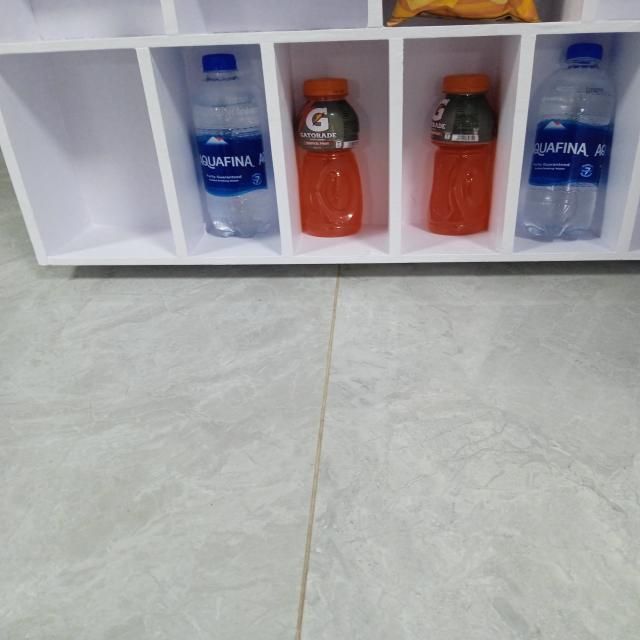Plastic: (183, 48, 277, 242), (530, 37, 612, 238), (425, 65, 497, 234), (294, 72, 366, 240), (383, 0, 547, 23)
